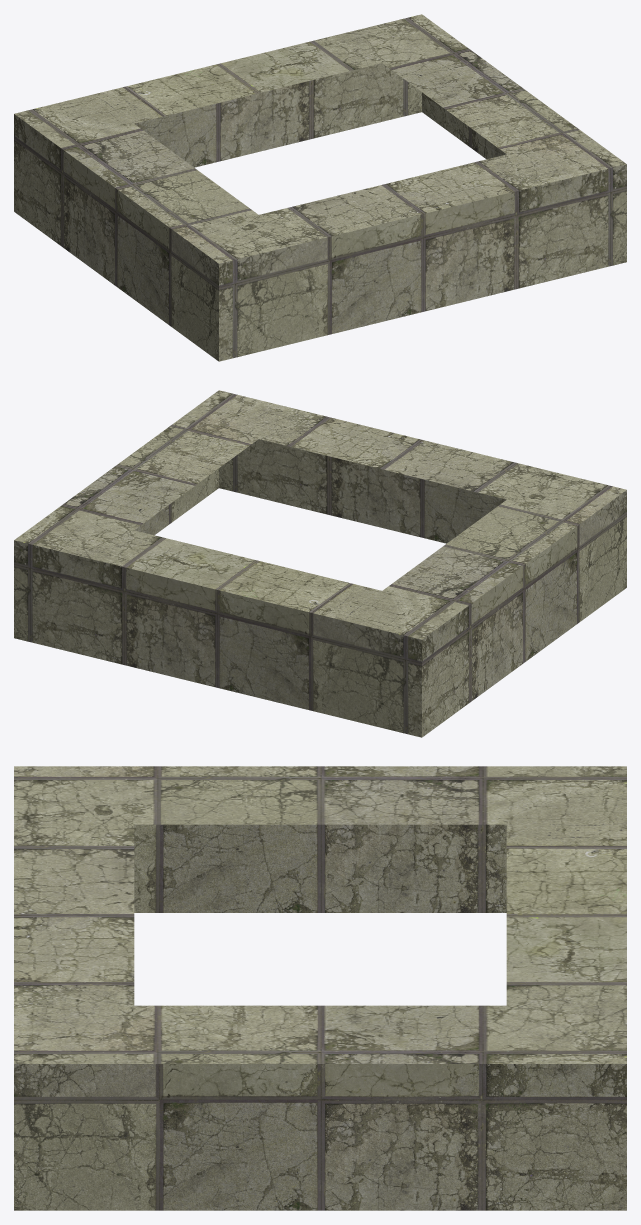
The model's file is SM_NeoLD_05_Block_01.fbx.
3 renders of one model, top to bottom at view 1: azimuth 30°, elevation 25°; view 2: azimuth 150°, elevation 25°; view 3: azimuth 270°, elevation 25°, orthographic. The views are drawn at different scales.
Parts seen in each view (by area): view 1: SM_NeoLD_05_Block_01; view 2: SM_NeoLD_05_Block_01; view 3: SM_NeoLD_05_Block_01.
Boxes of the visible parts, x1=… form: SM_NeoLD_05_Block_01: x1=14, y1=14, x2=626, y2=361; SM_NeoLD_05_Block_01: x1=14, y1=390, x2=626, y2=737; SM_NeoLD_05_Block_01: x1=14, y1=766, x2=626, y2=1210.
Bounding box in the file's own units: 4368 × 1002 × 3802.
